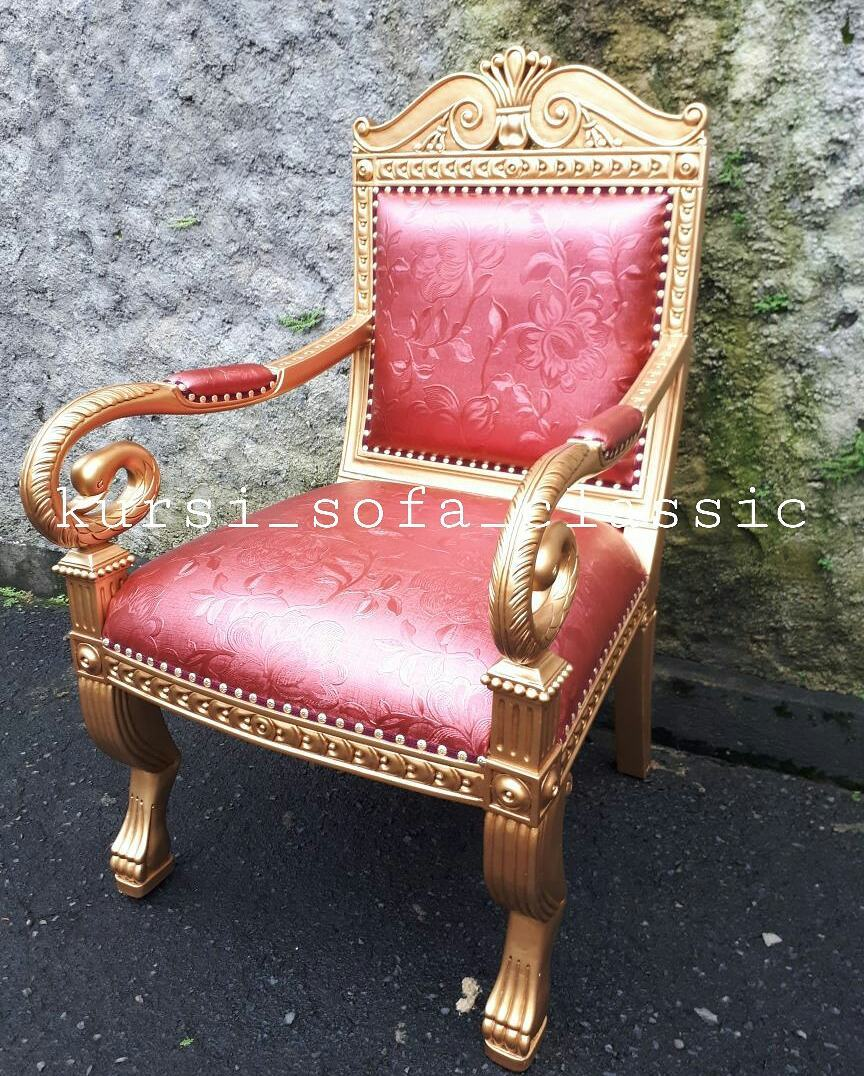Carving Chair: (37, 100, 704, 1006)
